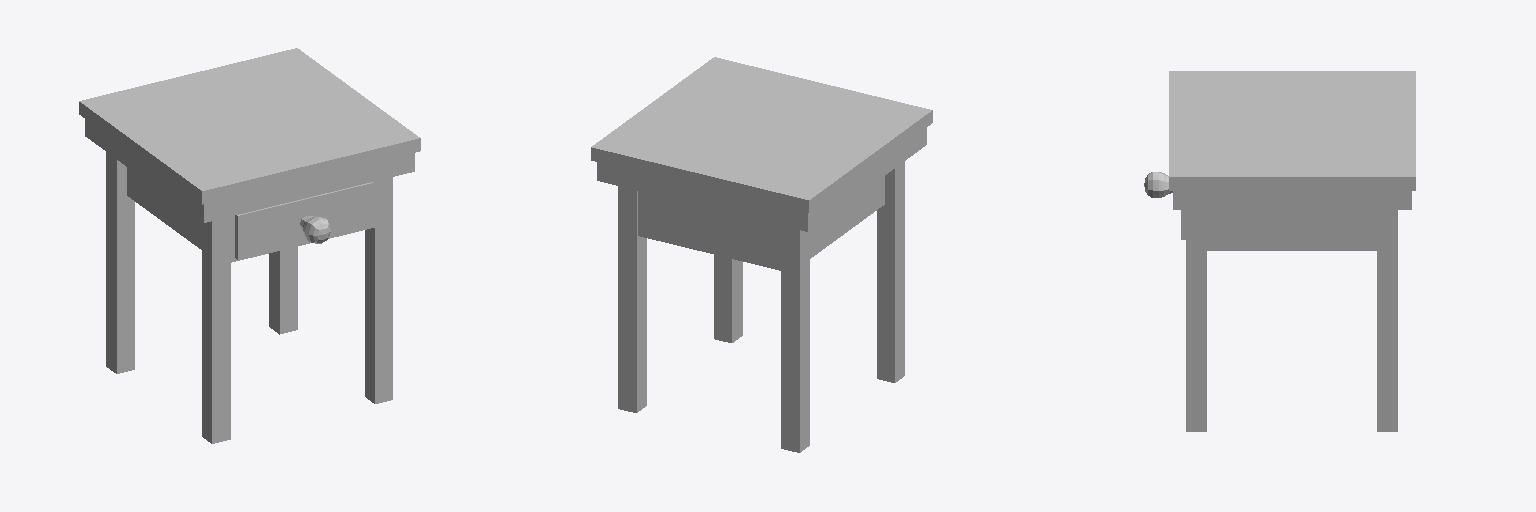
The model's file is chair.obj.
3 renders of one model, left to right at view 1: azimuth 30°, elevation 25°; view 2: azimuth 150°, elevation 25°; view 3: azimuth 270°, elevation 25°, orthographic.
Visible parts, largest first — view 1: Prop_Table_02; view 2: Prop_Table_02; view 3: Prop_Table_02.
Boxes of the visible parts, box(x1,y1,x2,y2) form: Prop_Table_02: box(79, 48, 420, 443); Prop_Table_02: box(591, 57, 932, 452); Prop_Table_02: box(1144, 71, 1415, 431).
Bounding box in the file's own units: 0.65 × 0.75 × 0.7.